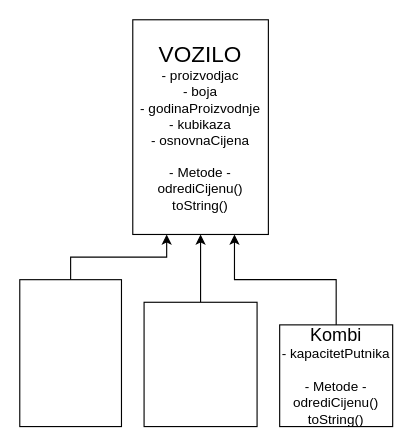
Some shapes in this 412 by 446 pixel diagram are drawn without their labels. Here are the shapes that lost their labels. From the top down, the centre of each, then its label:
(70,353): Automobil - brojVrata - tipMotora - dizel - Metode - odrediCijenu() toString()
(200,364): Kamion - kapacitetTereta - prikolica - Metode - odrediCijenu() toString()
